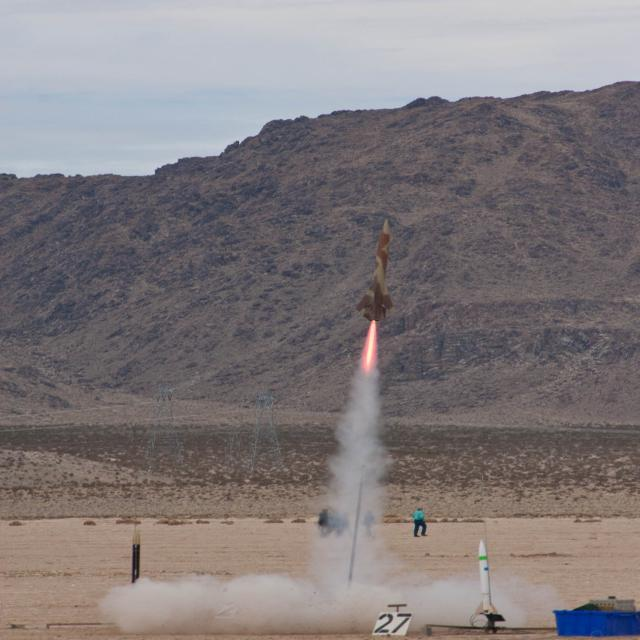Rocket: (353, 218, 397, 323), (475, 540, 499, 614), (130, 527, 140, 584)
